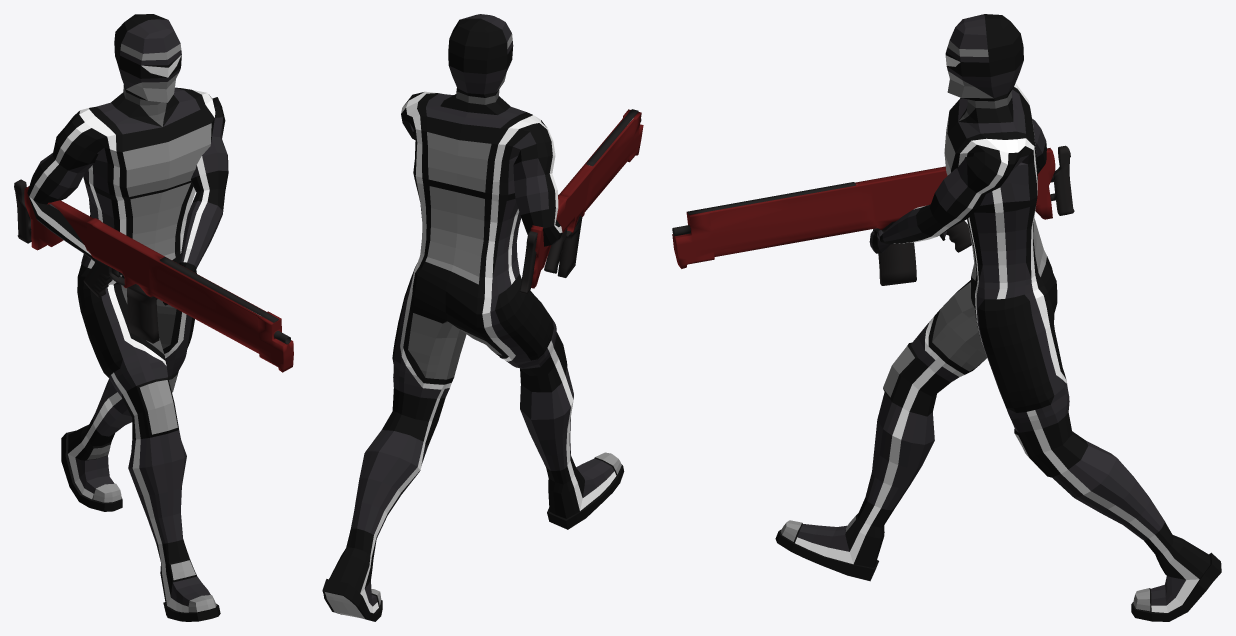
File: ASR3.obj
The picture shows the model from 3 angles, left to right: view 1: azimuth 30°, elevation 25°; view 2: azimuth 150°, elevation 25°; view 3: azimuth 270°, elevation 25°; orthographic projection. The views are drawn at different scales.
Parts seen in each view (by area): view 1: metarig_object_metarig_mesh, metarig_object.001_metarig_mesh.001; view 2: metarig_object_metarig_mesh, metarig_object.001_metarig_mesh.001; view 3: metarig_object_metarig_mesh, metarig_object.001_metarig_mesh.001.
Boxes of the visible parts, x1,y1,x2,y2 form: metarig_object_metarig_mesh: [27, 14, 228, 621]; metarig_object.001_metarig_mesh.001: [14, 179, 293, 372]; metarig_object_metarig_mesh: [322, 14, 624, 621]; metarig_object.001_metarig_mesh.001: [519, 109, 643, 294]; metarig_object_metarig_mesh: [775, 14, 1221, 621]; metarig_object.001_metarig_mesh.001: [672, 145, 1074, 285].
Size of the model in its own units: 0.5713 by 1.77 by 1.53.
2 materials, 2 textured.
